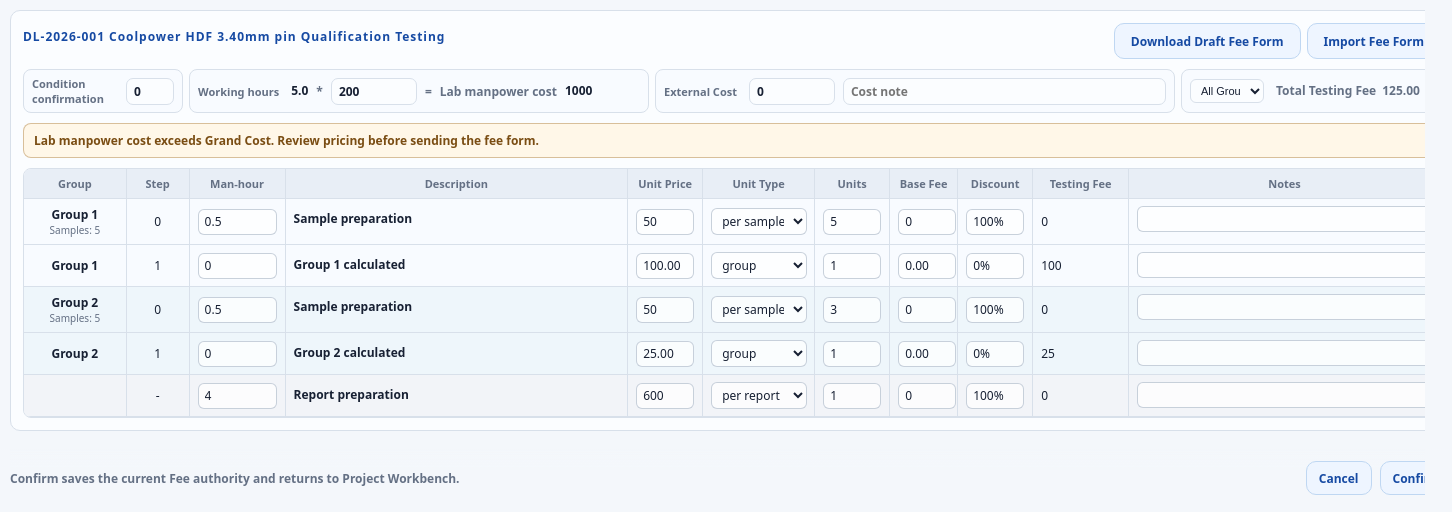
FeeEvaluationReviewExportPage › updates Working hours and the selected group total when the group filter changes
Expected: the table named "Testing Prices preview rows" is shown, [24,169,1440,417]
Expected: the text "DL-2026-001 Coolpower HDF 3.40mm pin Qualification Testing" is shown, [23,28,445,44]
Replace the text in the field named "Spend Time for group Group 1 step 1" with "1": (237, 266) [198,252,277,278]
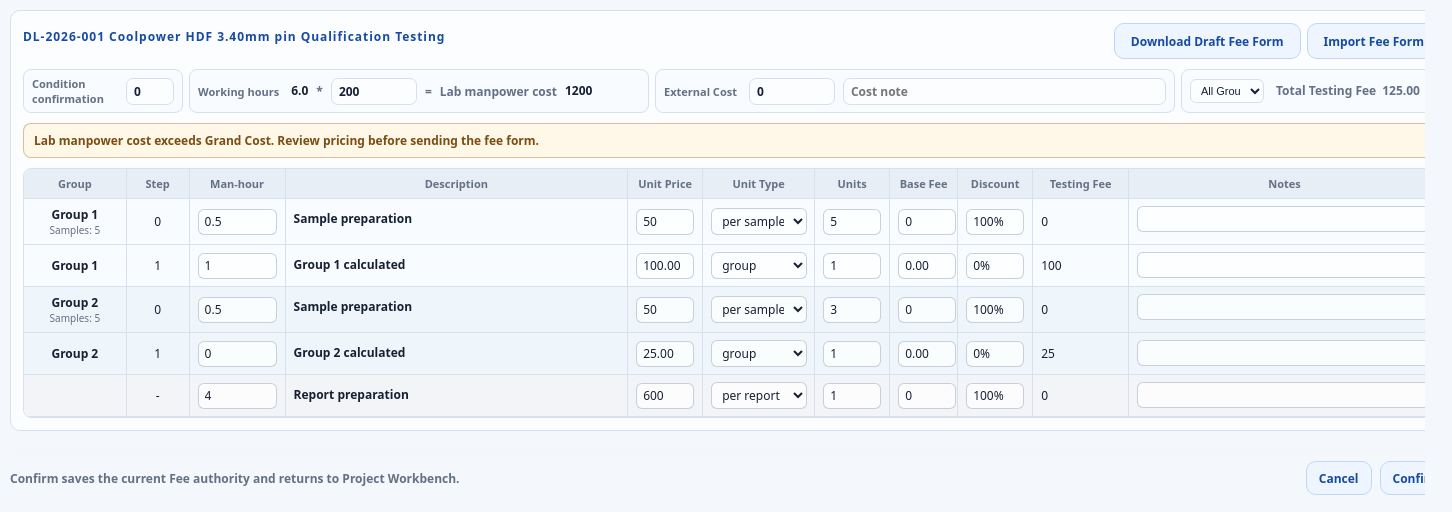
Replace the text in the field named "Spend Time for group Group 2 step 1" with "2": (237, 354) [198,340,277,366]
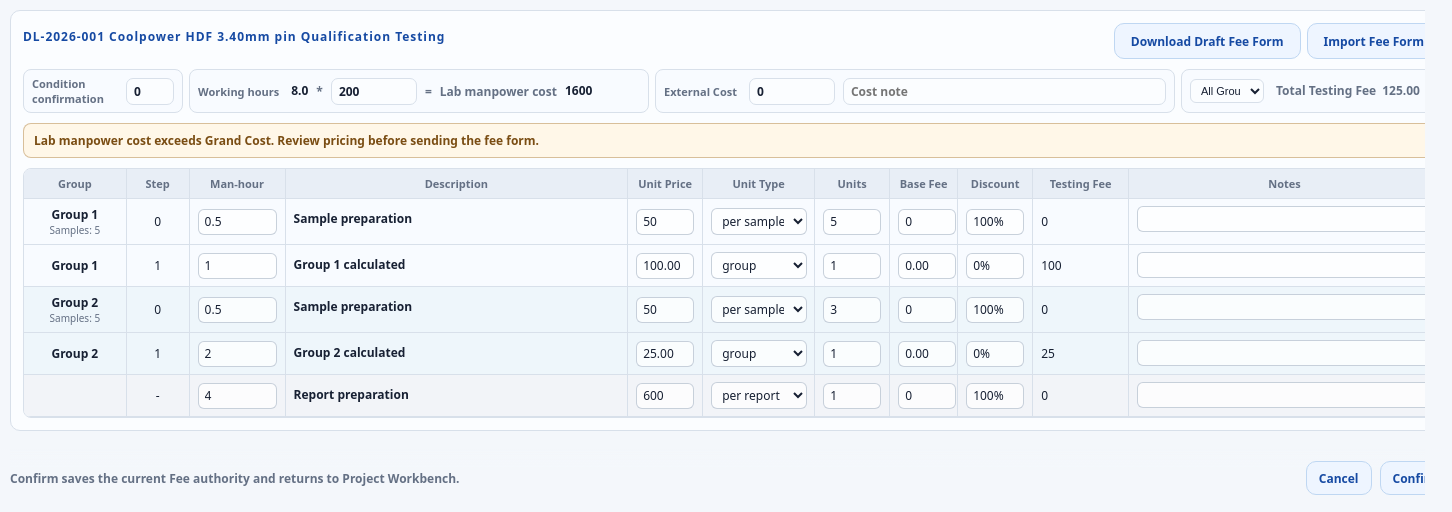
Expected: the text "Working hours" is shown, [198,84,279,98]
Expected: the text "8.0" is shown, [291,85,308,97]
Select "Group 1" in the dropdown named "Preview group": (1227, 91) [1190,79,1264,103]
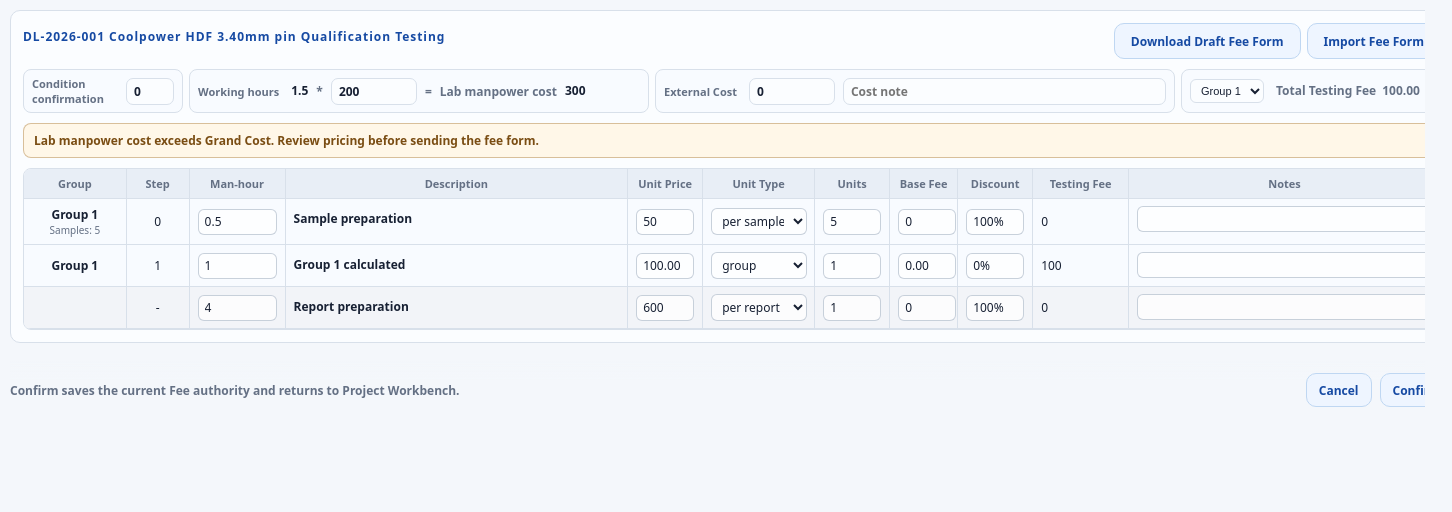
Expected: the element named "Selected group fee" shows "100.00", [1382,82,1420,99]
Expected: the text "1.5" is shown, [291,85,308,97]
